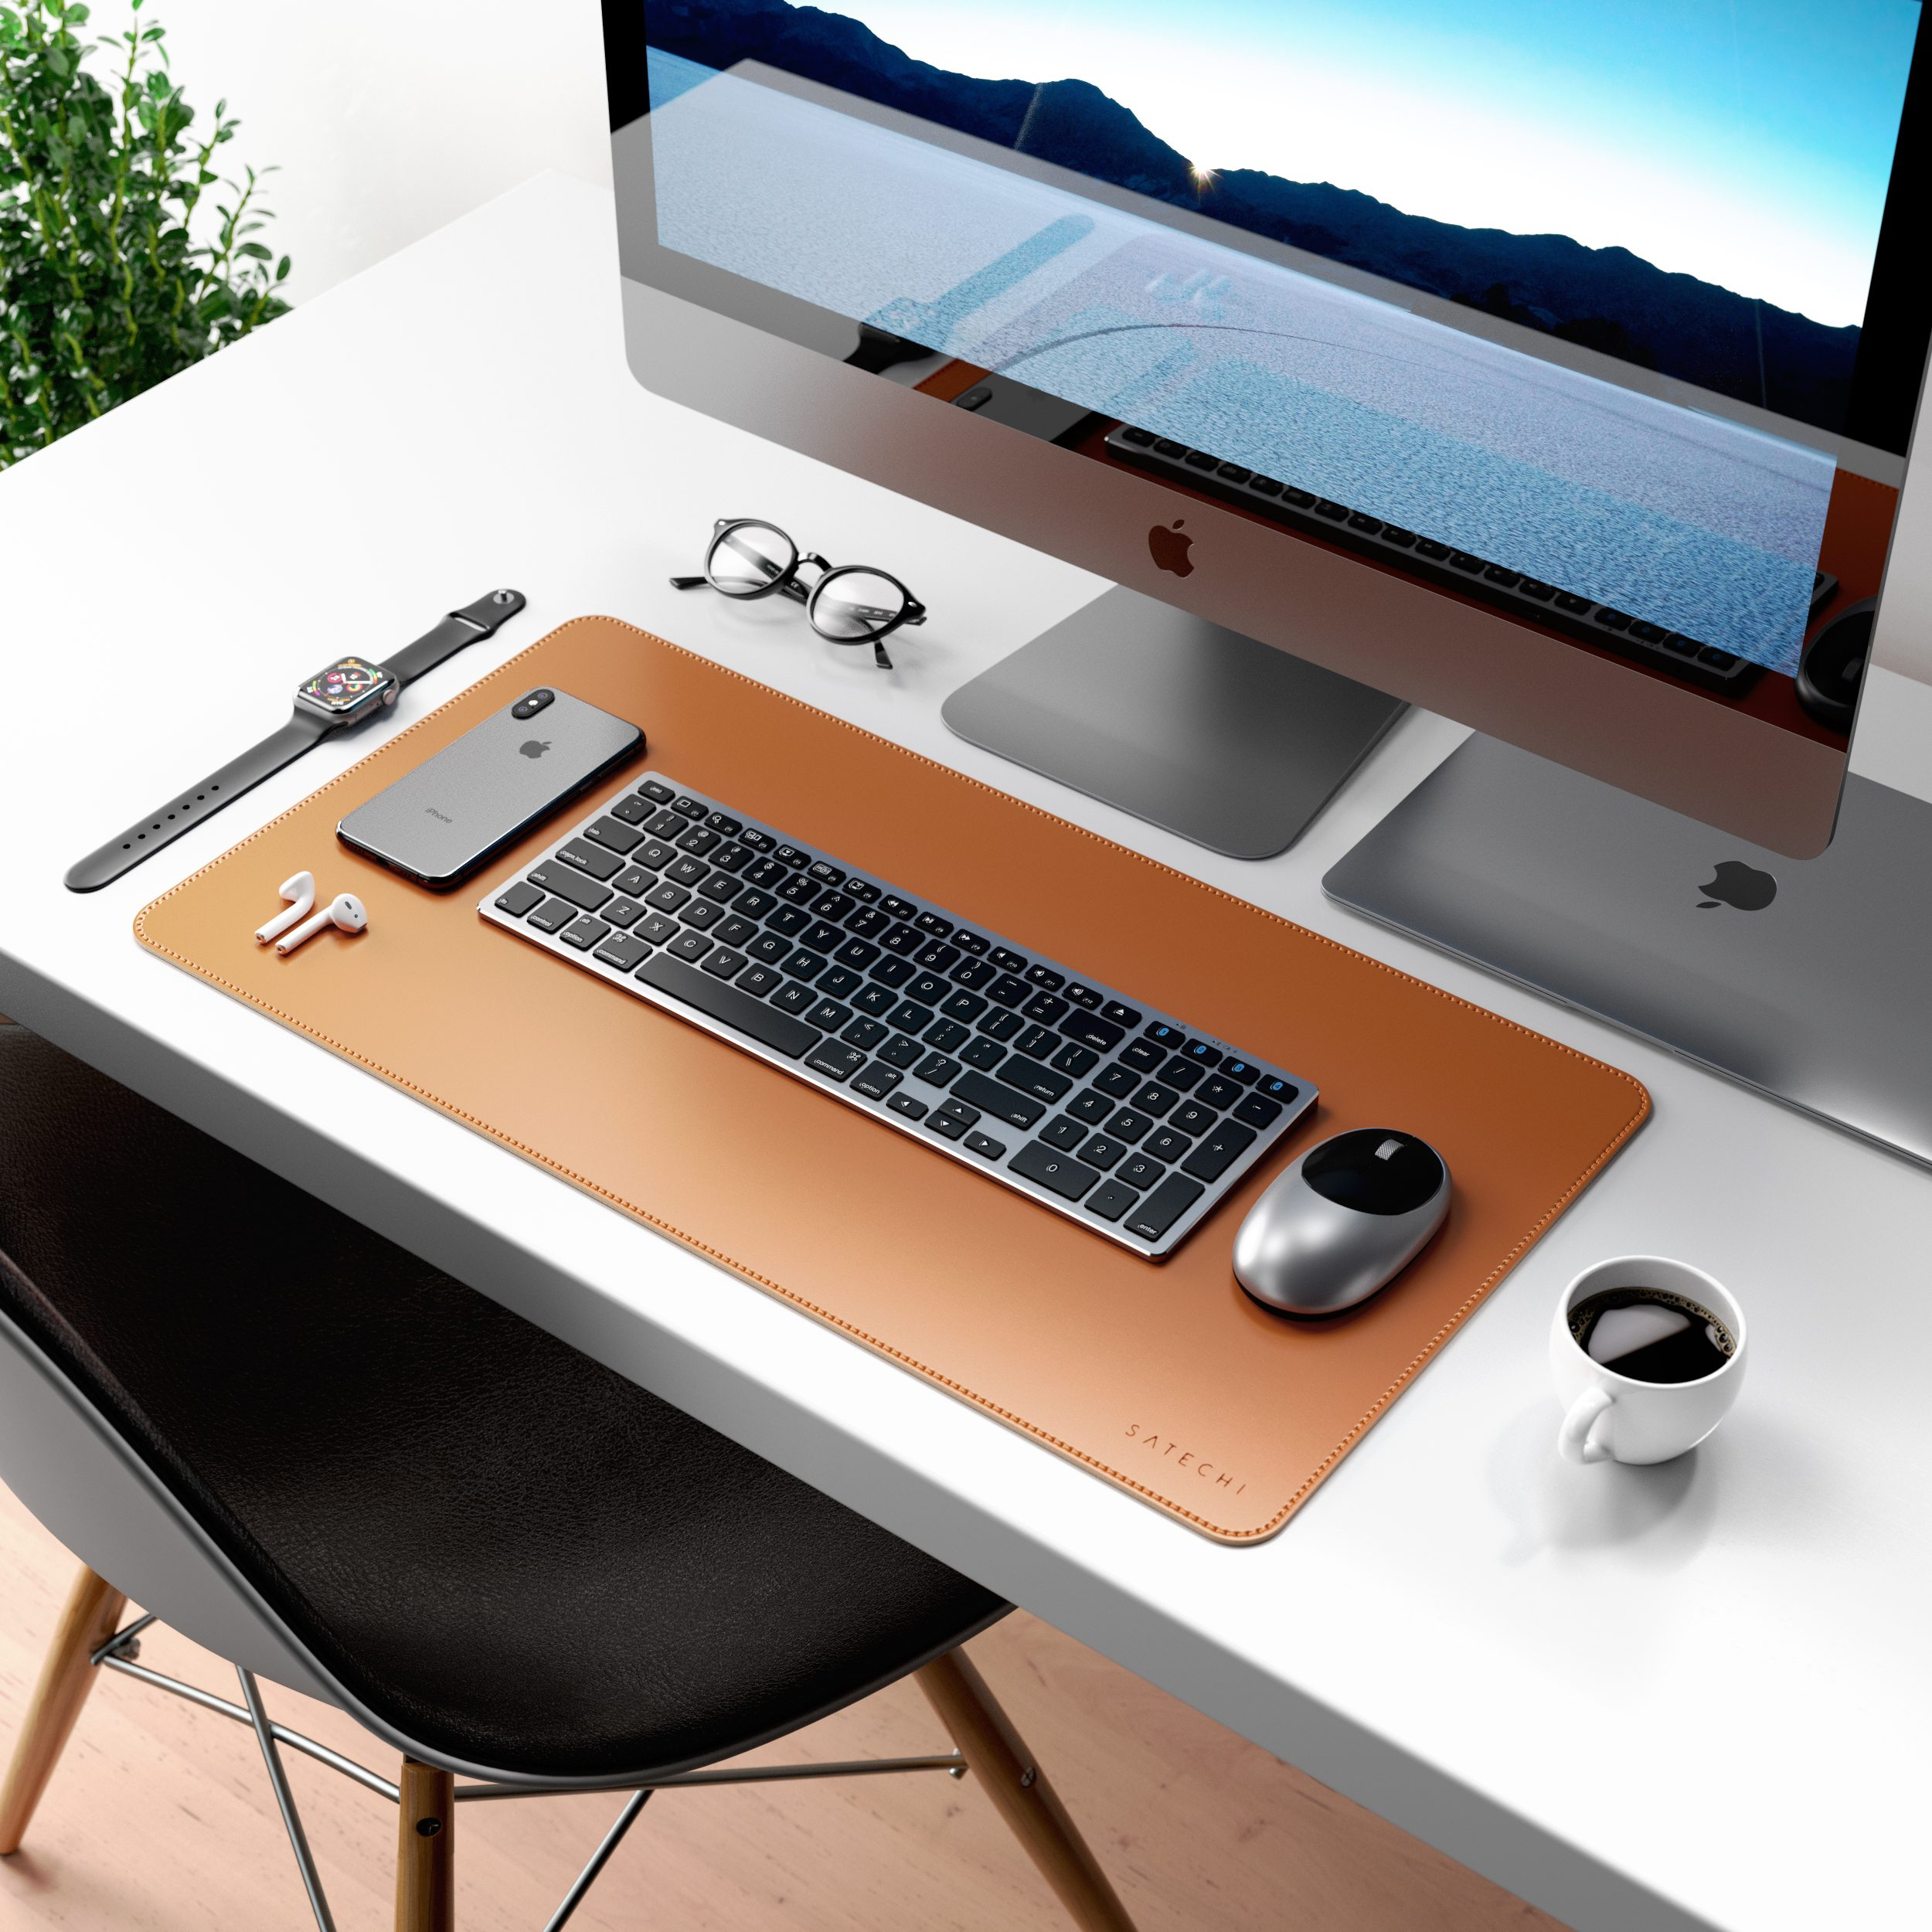keyboard: (481, 738, 1309, 1272)
mouse: (1198, 1085, 1474, 1350)
